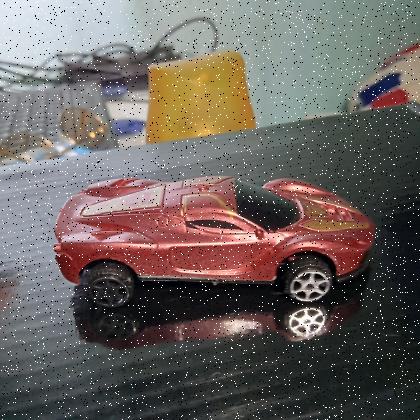Car: (47, 168, 379, 312)
